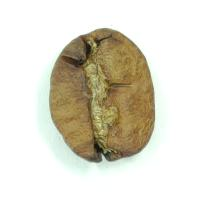NG: (66, 41, 131, 160)
